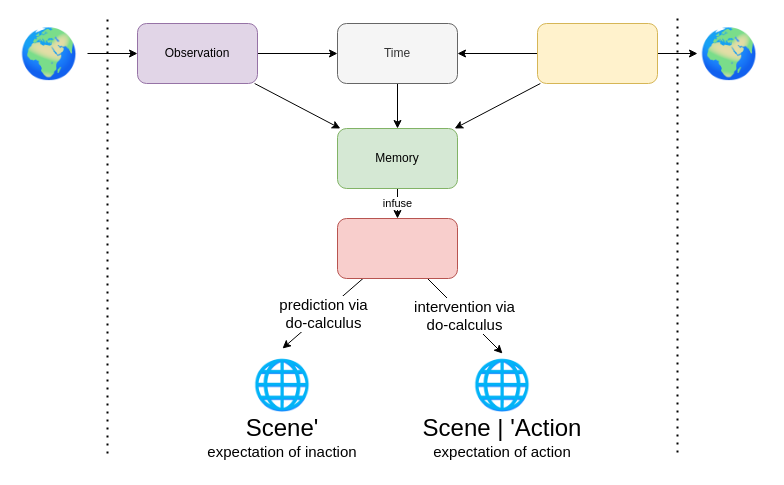
Image size: 784x485. Some labels were removed from this diagram. Here are the shapes that lost their labels. From the top down, the box of each, then its label:
(536, 22, 658, 84): Action
(336, 218, 458, 278): Causal Model
